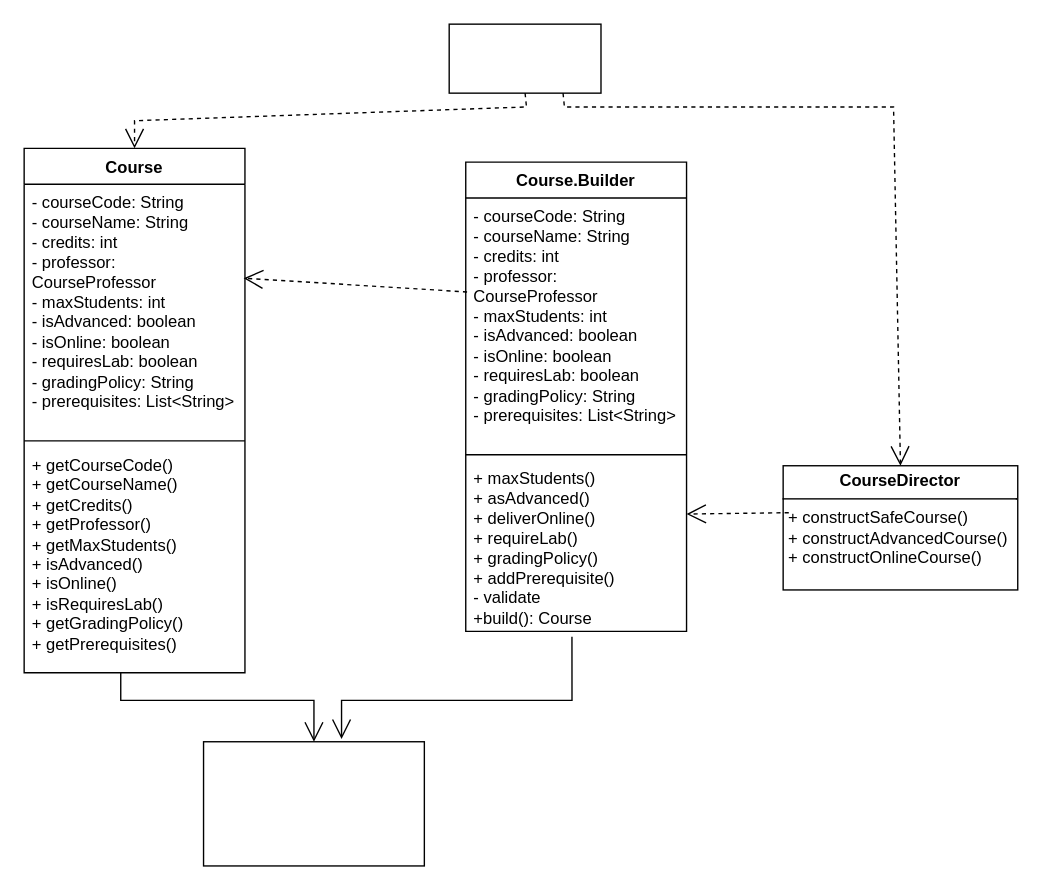
Some shapes in this 1042 by 890 pixel diagram are drawn without their labels. Each missing label, with the centre of its shape:
"CourseProfessor + fullName: String + academicDegree: String" belongs at [313,803].
"Main" belongs at [524,58].
